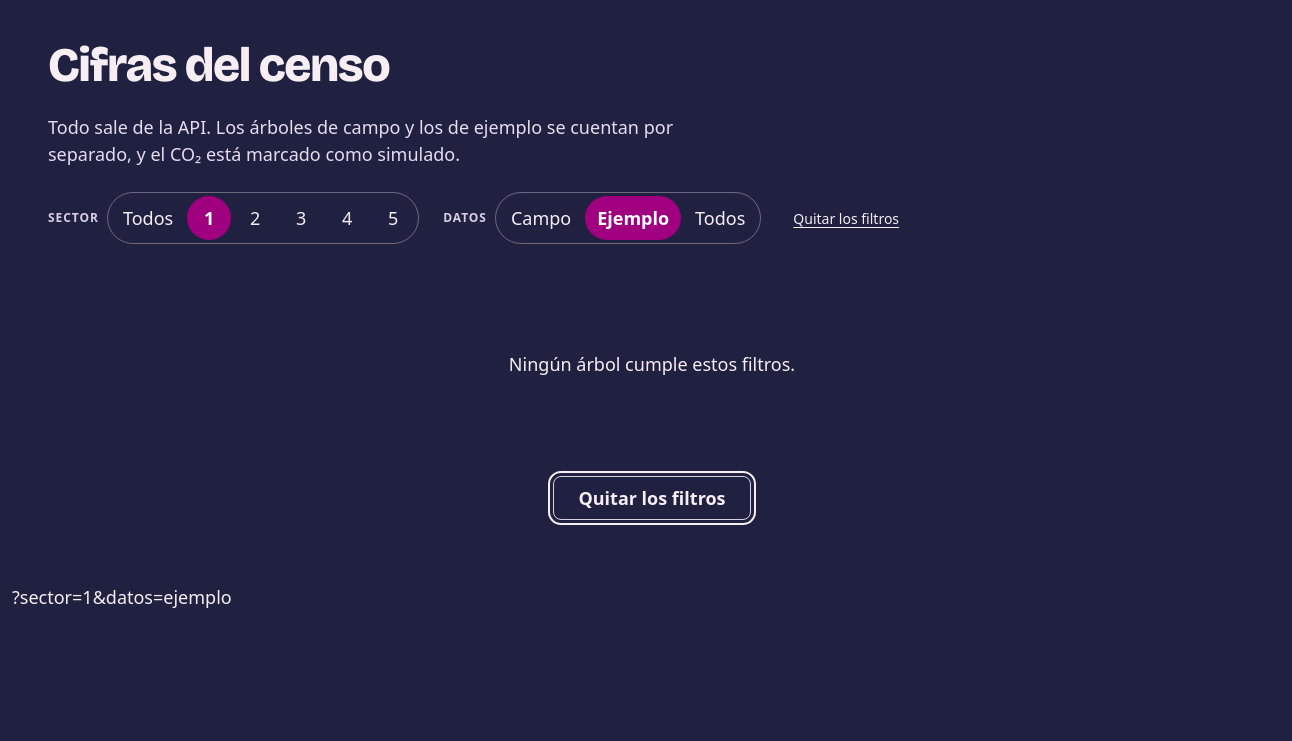
VistaCifras: los filtros viven en la URL › si ningún árbol cumple los filtros lo dice y deja quitarlos
Expected: the text "Ningún árbol cumple estos filtros." is shown, [509,351,795,378]
Click the 1st button "Quitar los filtros": (846, 218) [785,196,907,240]
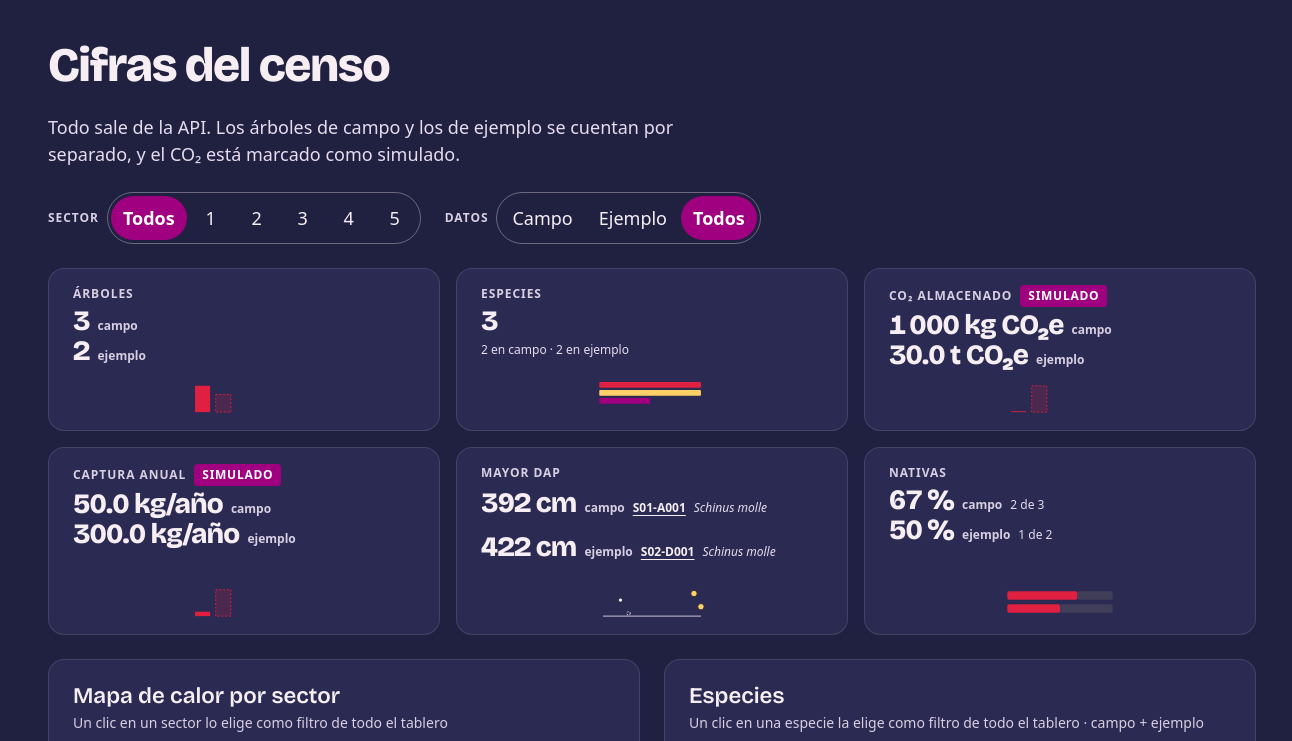
Expected: the element "Árboles" is shown, [48,268,440,431]
